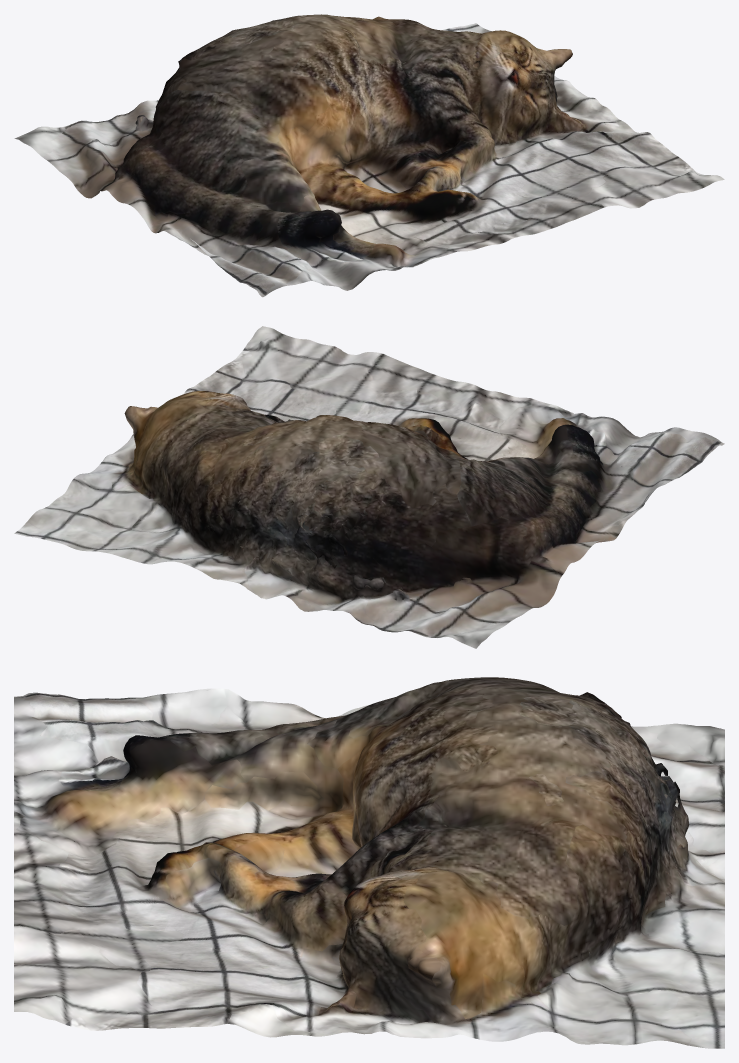
File: sleeping-cat.glb
3 renders of one model, top to bottom at view 1: azimuth 30°, elevation 25°; view 2: azimuth 150°, elevation 25°; view 3: azimuth 270°, elevation 25°, orthographic. The views are drawn at different scales.
Parts seen in each view (by area): view 1: Mesh_0.006; view 2: Mesh_0.006; view 3: Mesh_0.006.
Part boxes in pixels (<box>): Mesh_0.006: <box>14,14,724,297</box>; Mesh_0.006: <box>14,326,724,648</box>; Mesh_0.006: <box>14,677,724,1048</box>.
Bounding box in the file's own units: 0.5366 × 0.1328 × 0.4997.
Materials: 1 (1 with a texture image).
